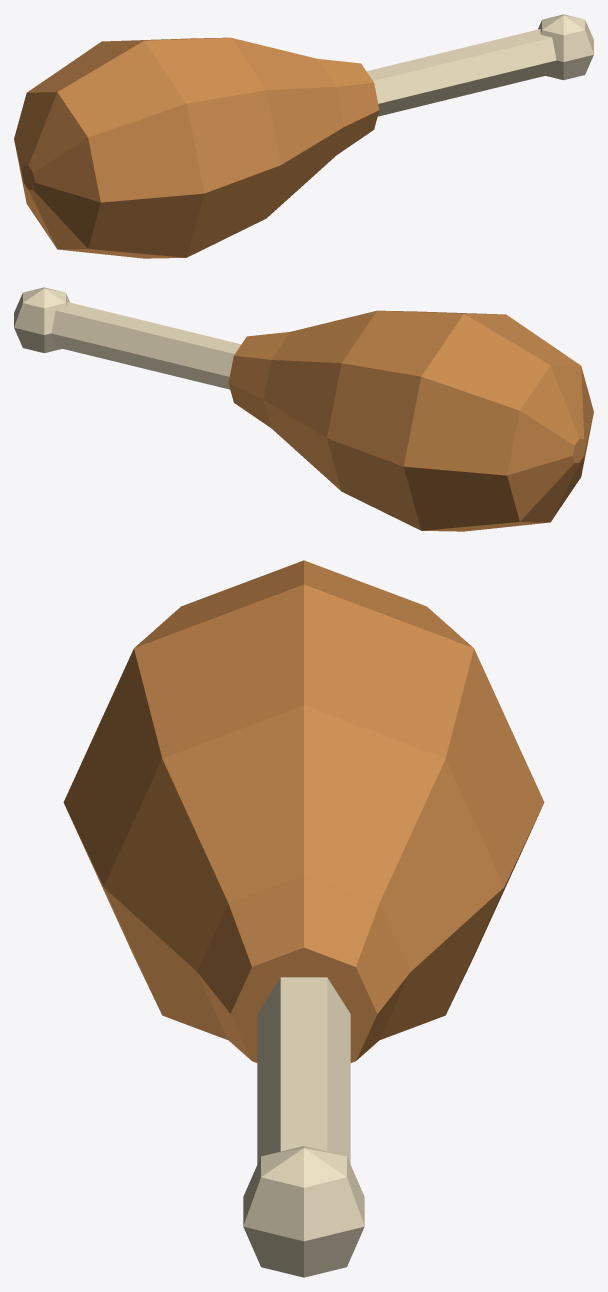
Rendered from FD_Drumstick_01.glb.
3 renders of one model, top to bottom at view 1: azimuth 30°, elevation 25°; view 2: azimuth 150°, elevation 25°; view 3: azimuth 270°, elevation 25°, orthographic. The views are drawn at different scales.
Visible parts, largest first — view 1: FD_Drumstick_01; view 2: FD_Drumstick_01; view 3: FD_Drumstick_01.
Part boxes in pixels (bbox=[...]): FD_Drumstick_01: bbox=[14, 14, 593, 258]; FD_Drumstick_01: bbox=[14, 287, 593, 531]; FD_Drumstick_01: bbox=[63, 560, 544, 1277].
Bounding box in the file's own units: 0.1955 × 0.072 × 0.072.
Materials: 1 (1 with a texture image).
